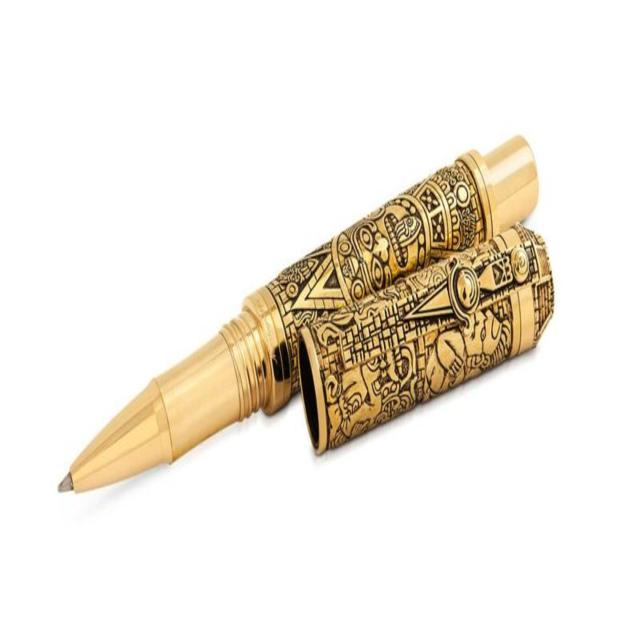pen: (56, 131, 558, 493)
